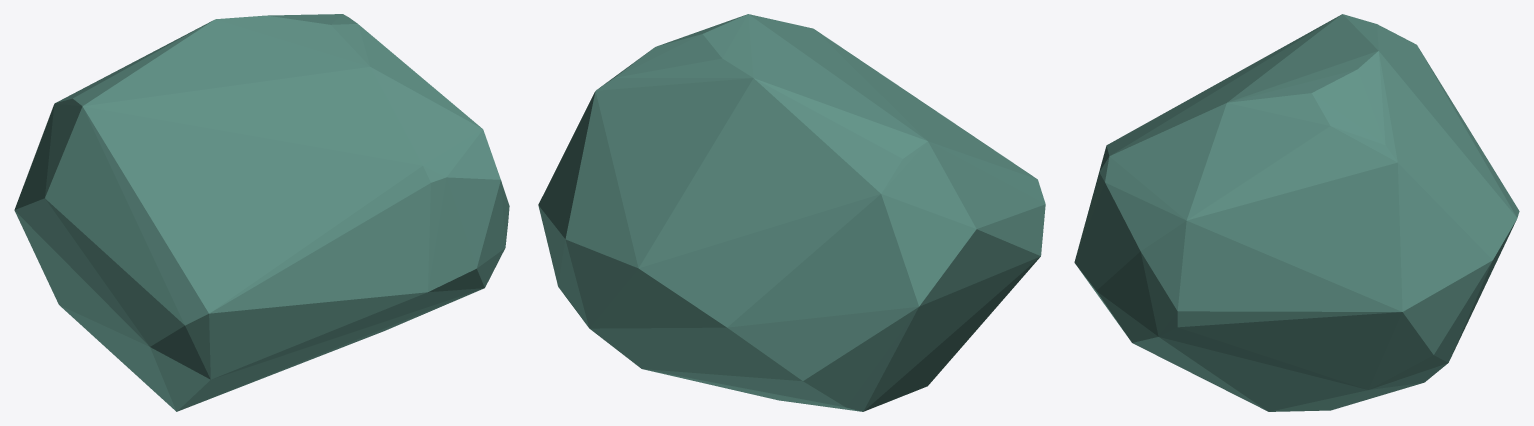
File: food_produce_kiwi_a05.glb
3 renders of one model, left to right at view 1: azimuth 30°, elevation 25°; view 2: azimuth 150°, elevation 25°; view 3: azimuth 270°, elevation 25°, orthographic. The views are drawn at different scales.
Parts seen in each view (by area): view 1: geometry_0; view 2: geometry_0; view 3: geometry_0.
Part boxes in pixels (x1,y1,x2,y2): geometry_0: (14,14,509,411); geometry_0: (538,14,1045,411); geometry_0: (1074,14,1519,411).
Size of the model in its own units: 0.4463 by 0.3599 by 0.4357.
